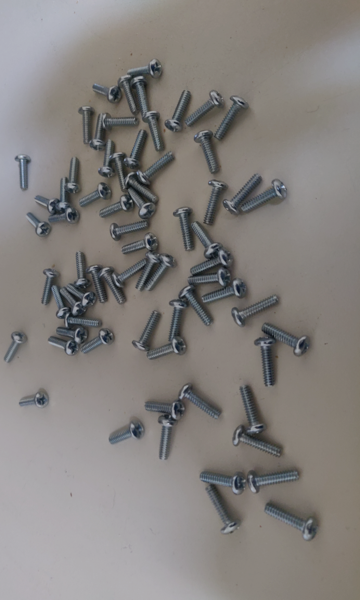shortscrew: (264, 503, 319, 542), (205, 484, 241, 535), (233, 425, 284, 459), (261, 323, 311, 357), (223, 174, 263, 216), (214, 96, 250, 141), (241, 179, 288, 213), (232, 295, 279, 328), (178, 384, 221, 420), (178, 285, 214, 327), (239, 385, 268, 436), (186, 90, 224, 128), (137, 152, 177, 185), (248, 470, 300, 495), (132, 310, 162, 352), (145, 254, 178, 292), (191, 221, 224, 259), (124, 172, 160, 205), (202, 278, 247, 304), (203, 180, 229, 225), (194, 130, 220, 174), (165, 90, 192, 132), (200, 472, 247, 496), (112, 259, 149, 289), (255, 337, 277, 387), (99, 267, 127, 305), (136, 252, 161, 292), (173, 207, 195, 252), (147, 336, 187, 360), (124, 129, 148, 169), (127, 187, 156, 220), (158, 415, 179, 460), (143, 111, 165, 152), (86, 265, 109, 304), (110, 220, 150, 242), (118, 75, 140, 115), (80, 329, 115, 354), (109, 421, 145, 445), (169, 299, 189, 342), (99, 195, 135, 218), (79, 183, 112, 208), (122, 233, 159, 255), (60, 288, 88, 317), (145, 401, 185, 421), (66, 284, 97, 309), (4, 331, 27, 364), (41, 269, 61, 306), (98, 140, 117, 178), (127, 59, 163, 79), (92, 83, 123, 105), (52, 286, 72, 320), (26, 212, 52, 238), (110, 153, 127, 192), (78, 106, 95, 145), (130, 78, 149, 112), (74, 252, 91, 289), (90, 114, 107, 151), (102, 114, 139, 131), (48, 337, 81, 356), (64, 313, 103, 329), (56, 327, 89, 345), (65, 157, 81, 194), (15, 154, 31, 191), (55, 178, 71, 212), (49, 208, 80, 225), (35, 196, 61, 216), (19, 392, 49, 409)
